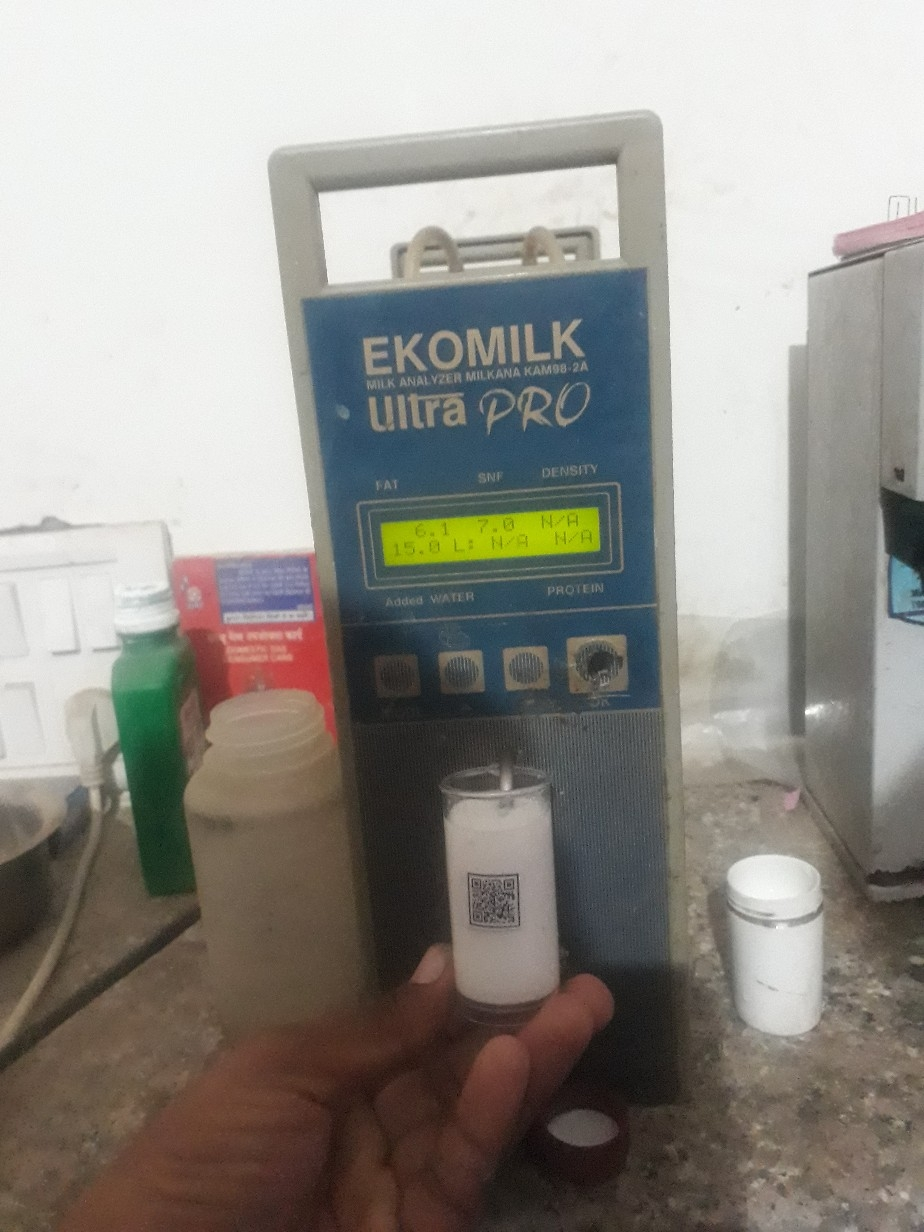lcd: (367, 491, 618, 587)
qr: (438, 865, 550, 942)
